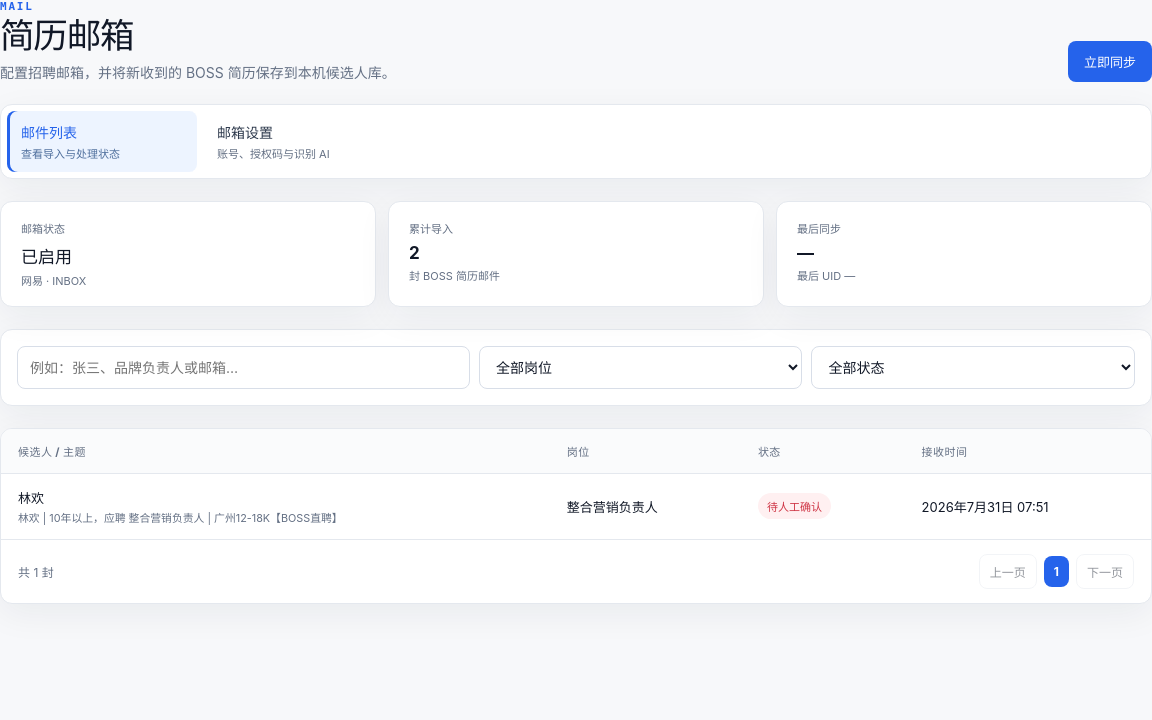
MailPage › shows resume and portfolio attachments from every mail linked to the candidate
The width and height of the screenshot is (1152, 720).
Step 1. Click the button "林欢 林欢 | 10年以上，应聘 整合营销负责人 | 广州12-18K【BOSS直聘】" → (180, 518), box [18,488,533,525]
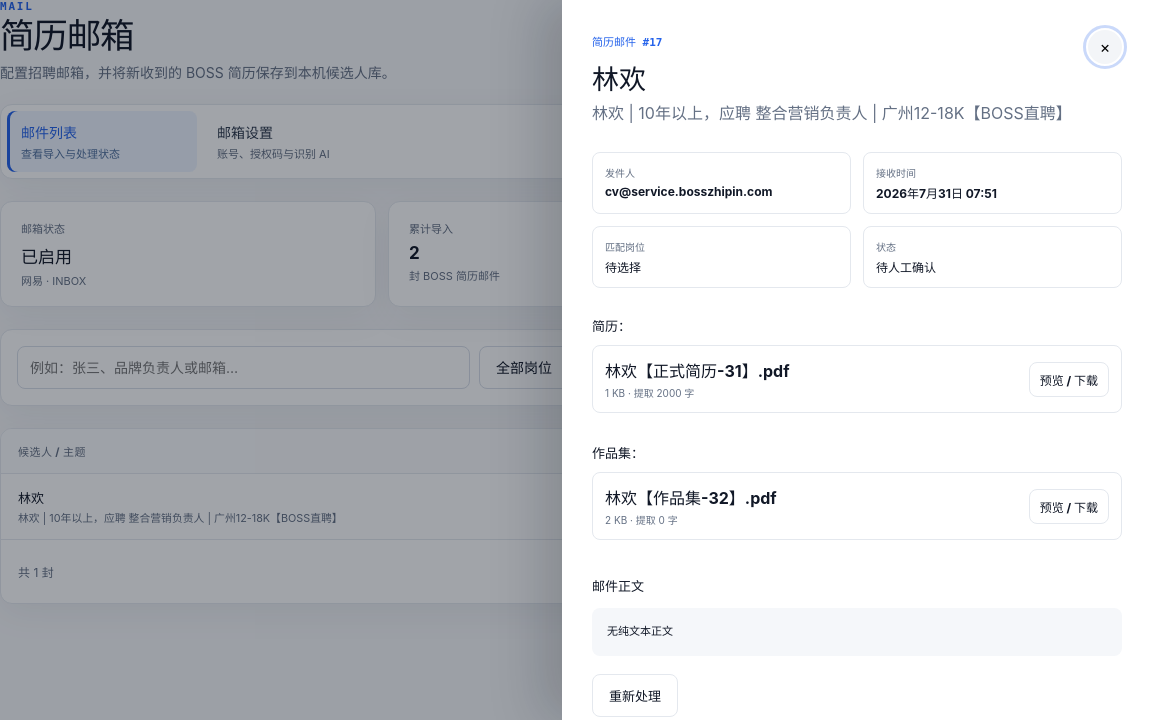
Check: the heading "简历：" is shown, box [592,318,631,334]
Check: the text "林欢【正式简历-31】.pdf" is shown, box [605,358,790,382]
Check: the heading "作品集：" is shown, box [592,445,644,461]
